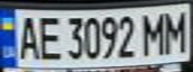0: (81, 14, 103, 61)
2: (115, 11, 139, 60)
3: (63, 12, 84, 61)
9: (100, 12, 121, 61)
A: (12, 12, 42, 62)
E: (33, 12, 63, 62)
M: (139, 9, 169, 56), (163, 7, 190, 54)
